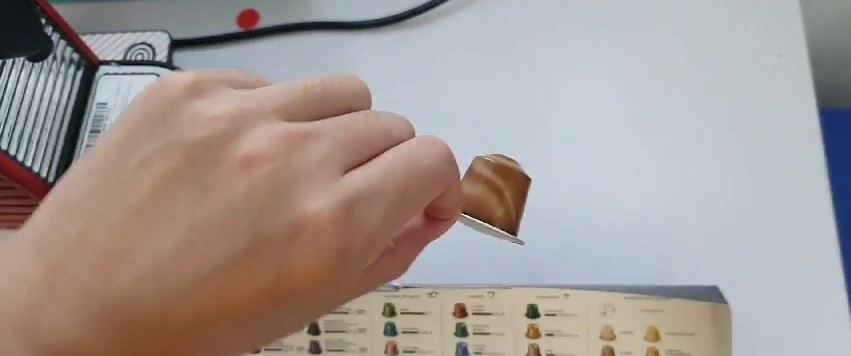capsule_12: (448, 151, 535, 247)
